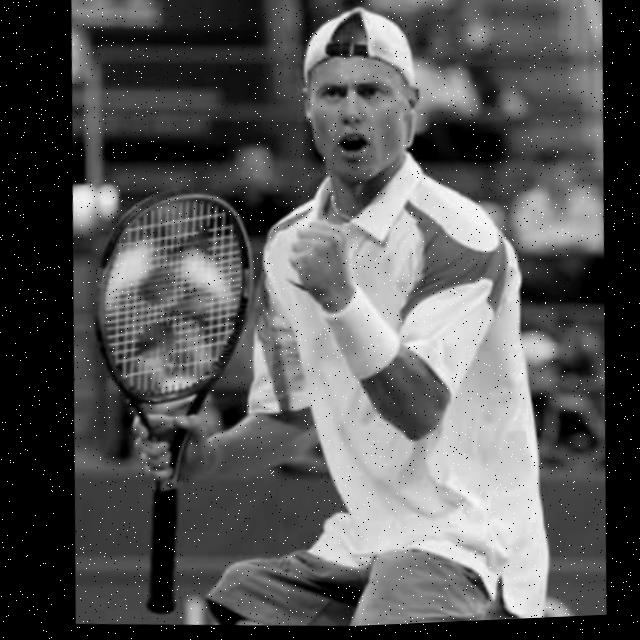face: (296, 10, 416, 177)
